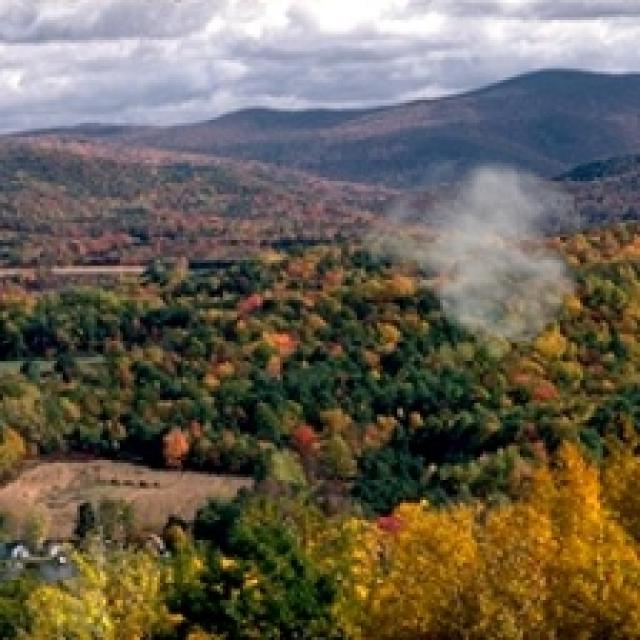smoke: (340, 151, 603, 360)
